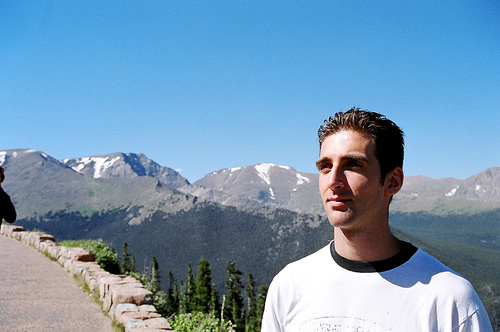without_mask: (316, 129, 403, 233)
